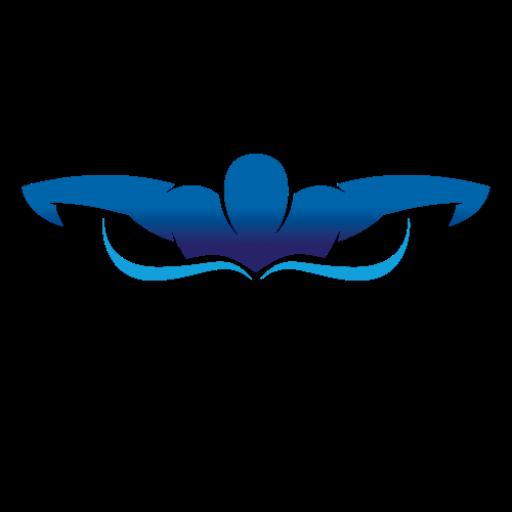swimming: (20, 149, 492, 290)
